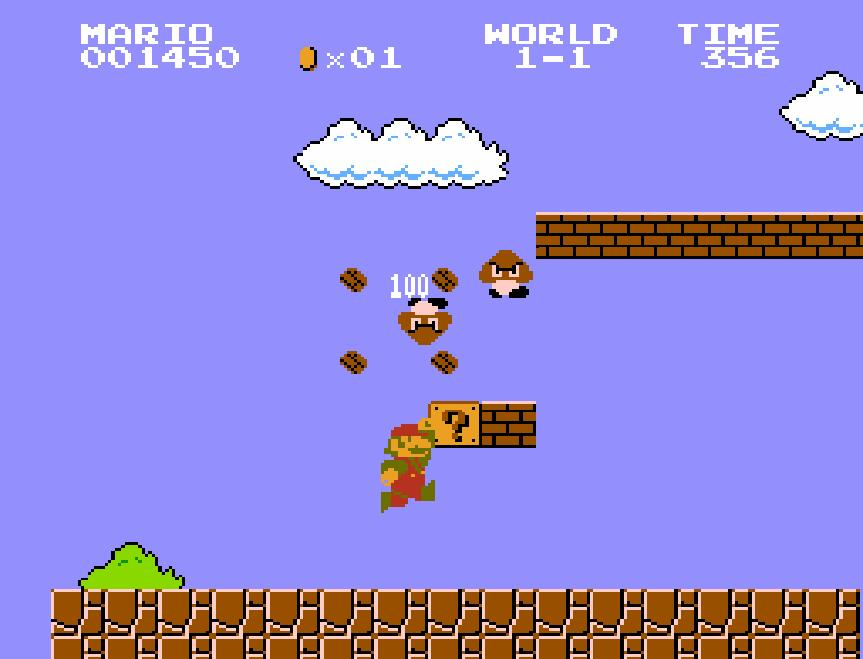big_mario: (379, 416, 437, 514)
